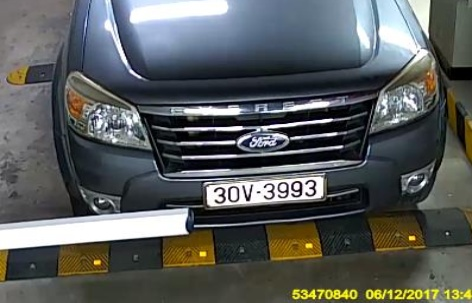plate: (197, 172, 327, 209)
